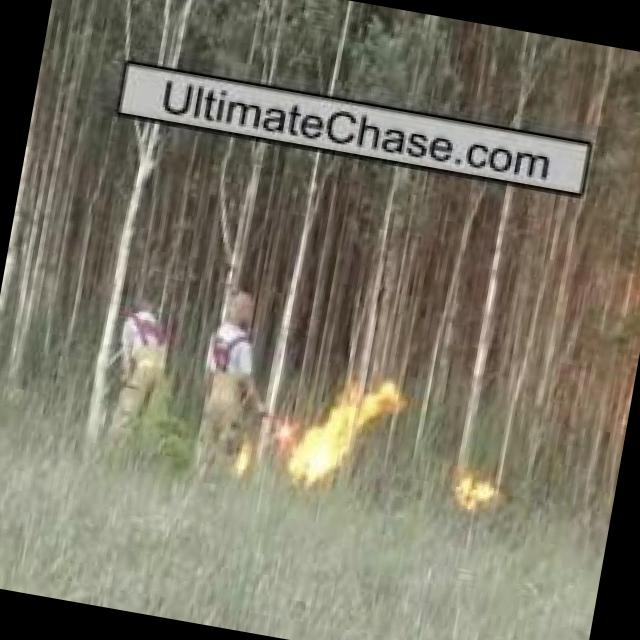Fire: (268, 354, 416, 506), (436, 448, 516, 522)
